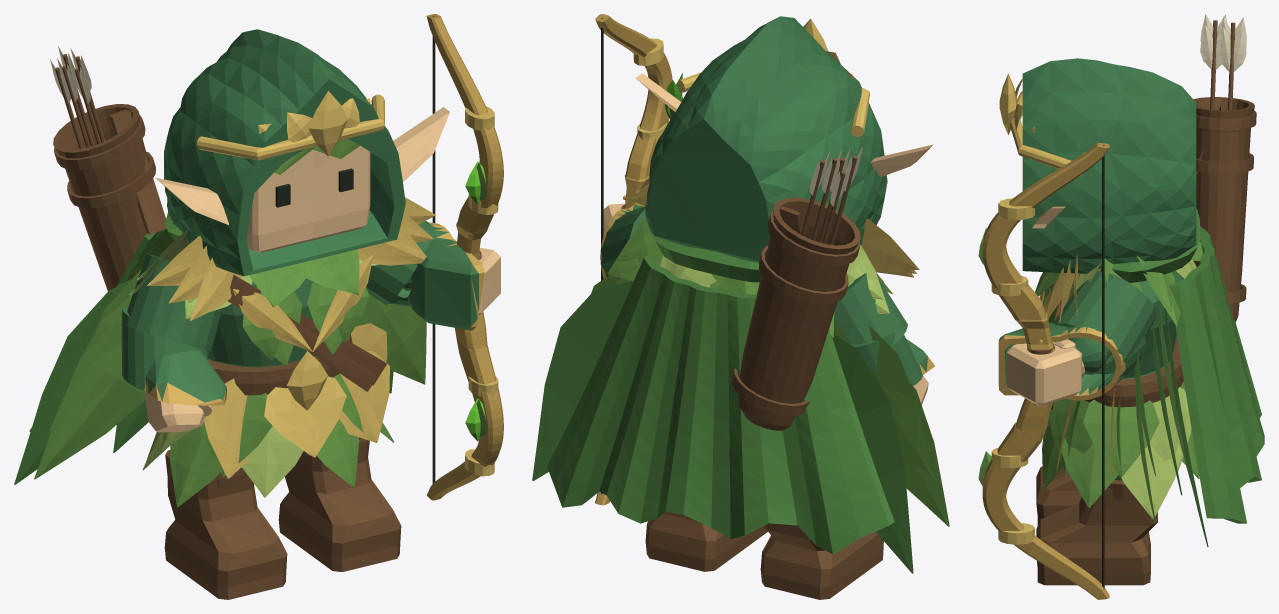
File: verdantguard.glb
The picture shows the model from 3 angles, left to right: view 1: azimuth 30°, elevation 25°; view 2: azimuth 150°, elevation 25°; view 3: azimuth 270°, elevation 25°; orthographic projection. The views are drawn at different scales.
Parts seen in each view (by area): view 1: Hood — peaked source fold facets and closed fitted inner cav, RIGHT boot — broad source angular toe ankle and fitted shaft, LEFT boot — broad source angular toe ankle and fitted shaft, RIGHT relaxed arm — full outer sleeve with open fitted wrist, Head — one continuous bevelled jaw cheek forehead and concea, RIGHT rear quiver — substantial hollow leather cup with actu, LEFT bow arm — full outer sleeve with open fitted wrist cavi, RIGHT outer diagonal cloak leaf fan 2, Upper bow limb — shooting-plane broad angular taper and real, Lower bow limb — shooting-plane broad angular taper and real, RIGHT cloak overlapping long leaf fold 3, Gold skirt armor leaf edging 7 (+36 smaller); view 2: Cape — connected draped folded rear fabric with source scall, Hood — peaked source fold facets and closed fitted inner cav, RIGHT rear quiver — substantial hollow leather cup with actu, LEFT cloak overlapping long leaf fold 3, RIGHT cloak overlapping long leaf fold 3, RIGHT boot — broad source angular toe ankle and fitted shaft, RIGHT relaxed arm — full outer sleeve with open fitted wrist, LEFT boot — broad source angular toe ankle and fitted shaft, Upper bow limb — shooting-plane broad angular taper and real, RIGHT outer diagonal cloak leaf fan 1, Collar — underlying closed folded cloth shoulder yoke, RIGHT outer diagonal cloak leaf fan 2 (+13 smaller); view 3: Hood — peaked source fold facets and closed fitted inner cav, Cape — connected draped folded rear fabric with source scall, LEFT boot — broad source angular toe ankle and fitted shaft, LEFT bow arm — full outer sleeve with open fitted wrist cavi, RIGHT rear quiver — substantial hollow leather cup with actu, Upper bow limb — shooting-plane broad angular taper and real, Lower bow limb — shooting-plane broad angular taper and real, LEFT bow arm hand — compact source grip palm and thumb sourc, Tunic skirt — overlapping pointed leaf tier 1 panel 5, Tunic skirt — overlapping pointed leaf tier 2 panel 4, Tunic skirt — overlapping pointed leaf tier 2 panel 5, Belt — fitted broad leather wrap (+27 smaller).
Boxes of the visible parts, x1,y1,x2,y2 form: Hood — peaked source fold facets and closed fitted inner cav: [164, 29, 405, 276]; RIGHT boot — broad source angular toe ankle and fitted shaft: [164, 450, 287, 599]; LEFT boot — broad source angular toe ankle and fitted shaft: [278, 438, 401, 571]; RIGHT relaxed arm — full outer sleeve with open fitted wrist: [121, 254, 226, 405]; Head — one continuous bevelled jaw cheek forehead and concea: [246, 146, 370, 252]; RIGHT rear quiver — substantial hollow leather cup with actu: [53, 104, 149, 290]; LEFT bow arm — full outer sleeve with open fitted wrist cavi: [366, 221, 484, 330]; RIGHT outer diagonal cloak leaf fan 2: [34, 319, 145, 479]; Upper bow limb — shooting-plane broad angular taper and real: [426, 14, 503, 259]; Lower bow limb — shooting-plane broad angular taper and real: [427, 312, 503, 500]; RIGHT cloak overlapping long leaf fold 3: [14, 278, 132, 484]; Gold skirt armor leaf edging 7: [264, 376, 346, 457]; Cape — connected draped folded rear fabric with source scall: [547, 254, 894, 554]; Hood — peaked source fold facets and closed fitted inner cav: [645, 16, 887, 262]; RIGHT rear quiver — substantial hollow leather cup with actu: [738, 197, 860, 430]; LEFT cloak overlapping long leaf fold 3: [532, 280, 633, 480]; RIGHT cloak overlapping long leaf fold 3: [832, 333, 913, 573]; RIGHT boot — broad source angular toe ankle and fitted shaft: [760, 523, 883, 599]; RIGHT relaxed arm — full outer sleeve with open fitted wrist: [834, 273, 934, 385]; LEFT boot — broad source angular toe ankle and fitted shaft: [645, 512, 767, 571]; Upper bow limb — shooting-plane broad angular taper and real: [595, 14, 672, 208]; RIGHT outer diagonal cloak leaf fan 1: [869, 325, 933, 477]; Collar — underlying closed folded cloth shoulder yoke: [644, 215, 761, 282]; RIGHT outer diagonal cloak leaf fan 2: [902, 381, 949, 526]; Hood — peaked source fold facets and closed fitted inner cav: [1022, 58, 1196, 273]; Cape — connected draped folded rear fabric with source scall: [1169, 226, 1264, 523]; LEFT boot — broad source angular toe ankle and fitted shaft: [1036, 488, 1157, 585]; LEFT bow arm — full outer sleeve with open fitted wrist cavi: [998, 271, 1156, 400]; RIGHT rear quiver — substantial hollow leather cup with actu: [1191, 97, 1254, 321]; Upper bow limb — shooting-plane broad angular taper and real: [982, 142, 1109, 351]; Lower bow limb — shooting-plane broad angular taper and real: [982, 398, 1109, 599]; LEFT bow arm hand — compact source grip palm and thumb sourc: [1007, 339, 1084, 406]; Tunic skirt — overlapping pointed leaf tier 1 panel 5: [1083, 399, 1159, 477]; Tunic skirt — overlapping pointed leaf tier 2 panel 4: [1121, 445, 1181, 519]; Tunic skirt — overlapping pointed leaf tier 2 panel 5: [1061, 438, 1118, 508]; Belt — fitted broad leather wrap: [1085, 336, 1183, 407].
Size of the model in its own units: 0.8364 by 1.03 by 0.5451.
